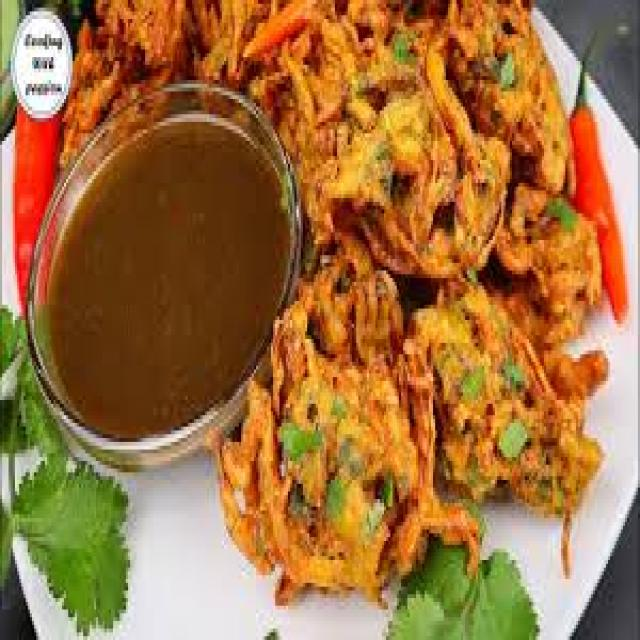BAJI: (61, 0, 606, 392), (220, 265, 463, 589), (412, 284, 595, 568)
